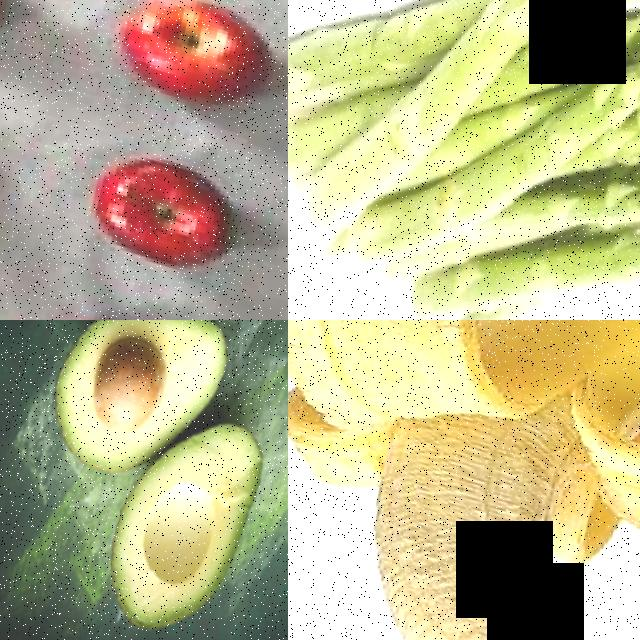apple: (83, 122, 257, 278), (104, 0, 288, 119), (23, 282, 210, 320)
asparagus: (288, 0, 640, 320)
avocado: (99, 380, 278, 640), (34, 320, 246, 492)
banana: (288, 320, 640, 640)
